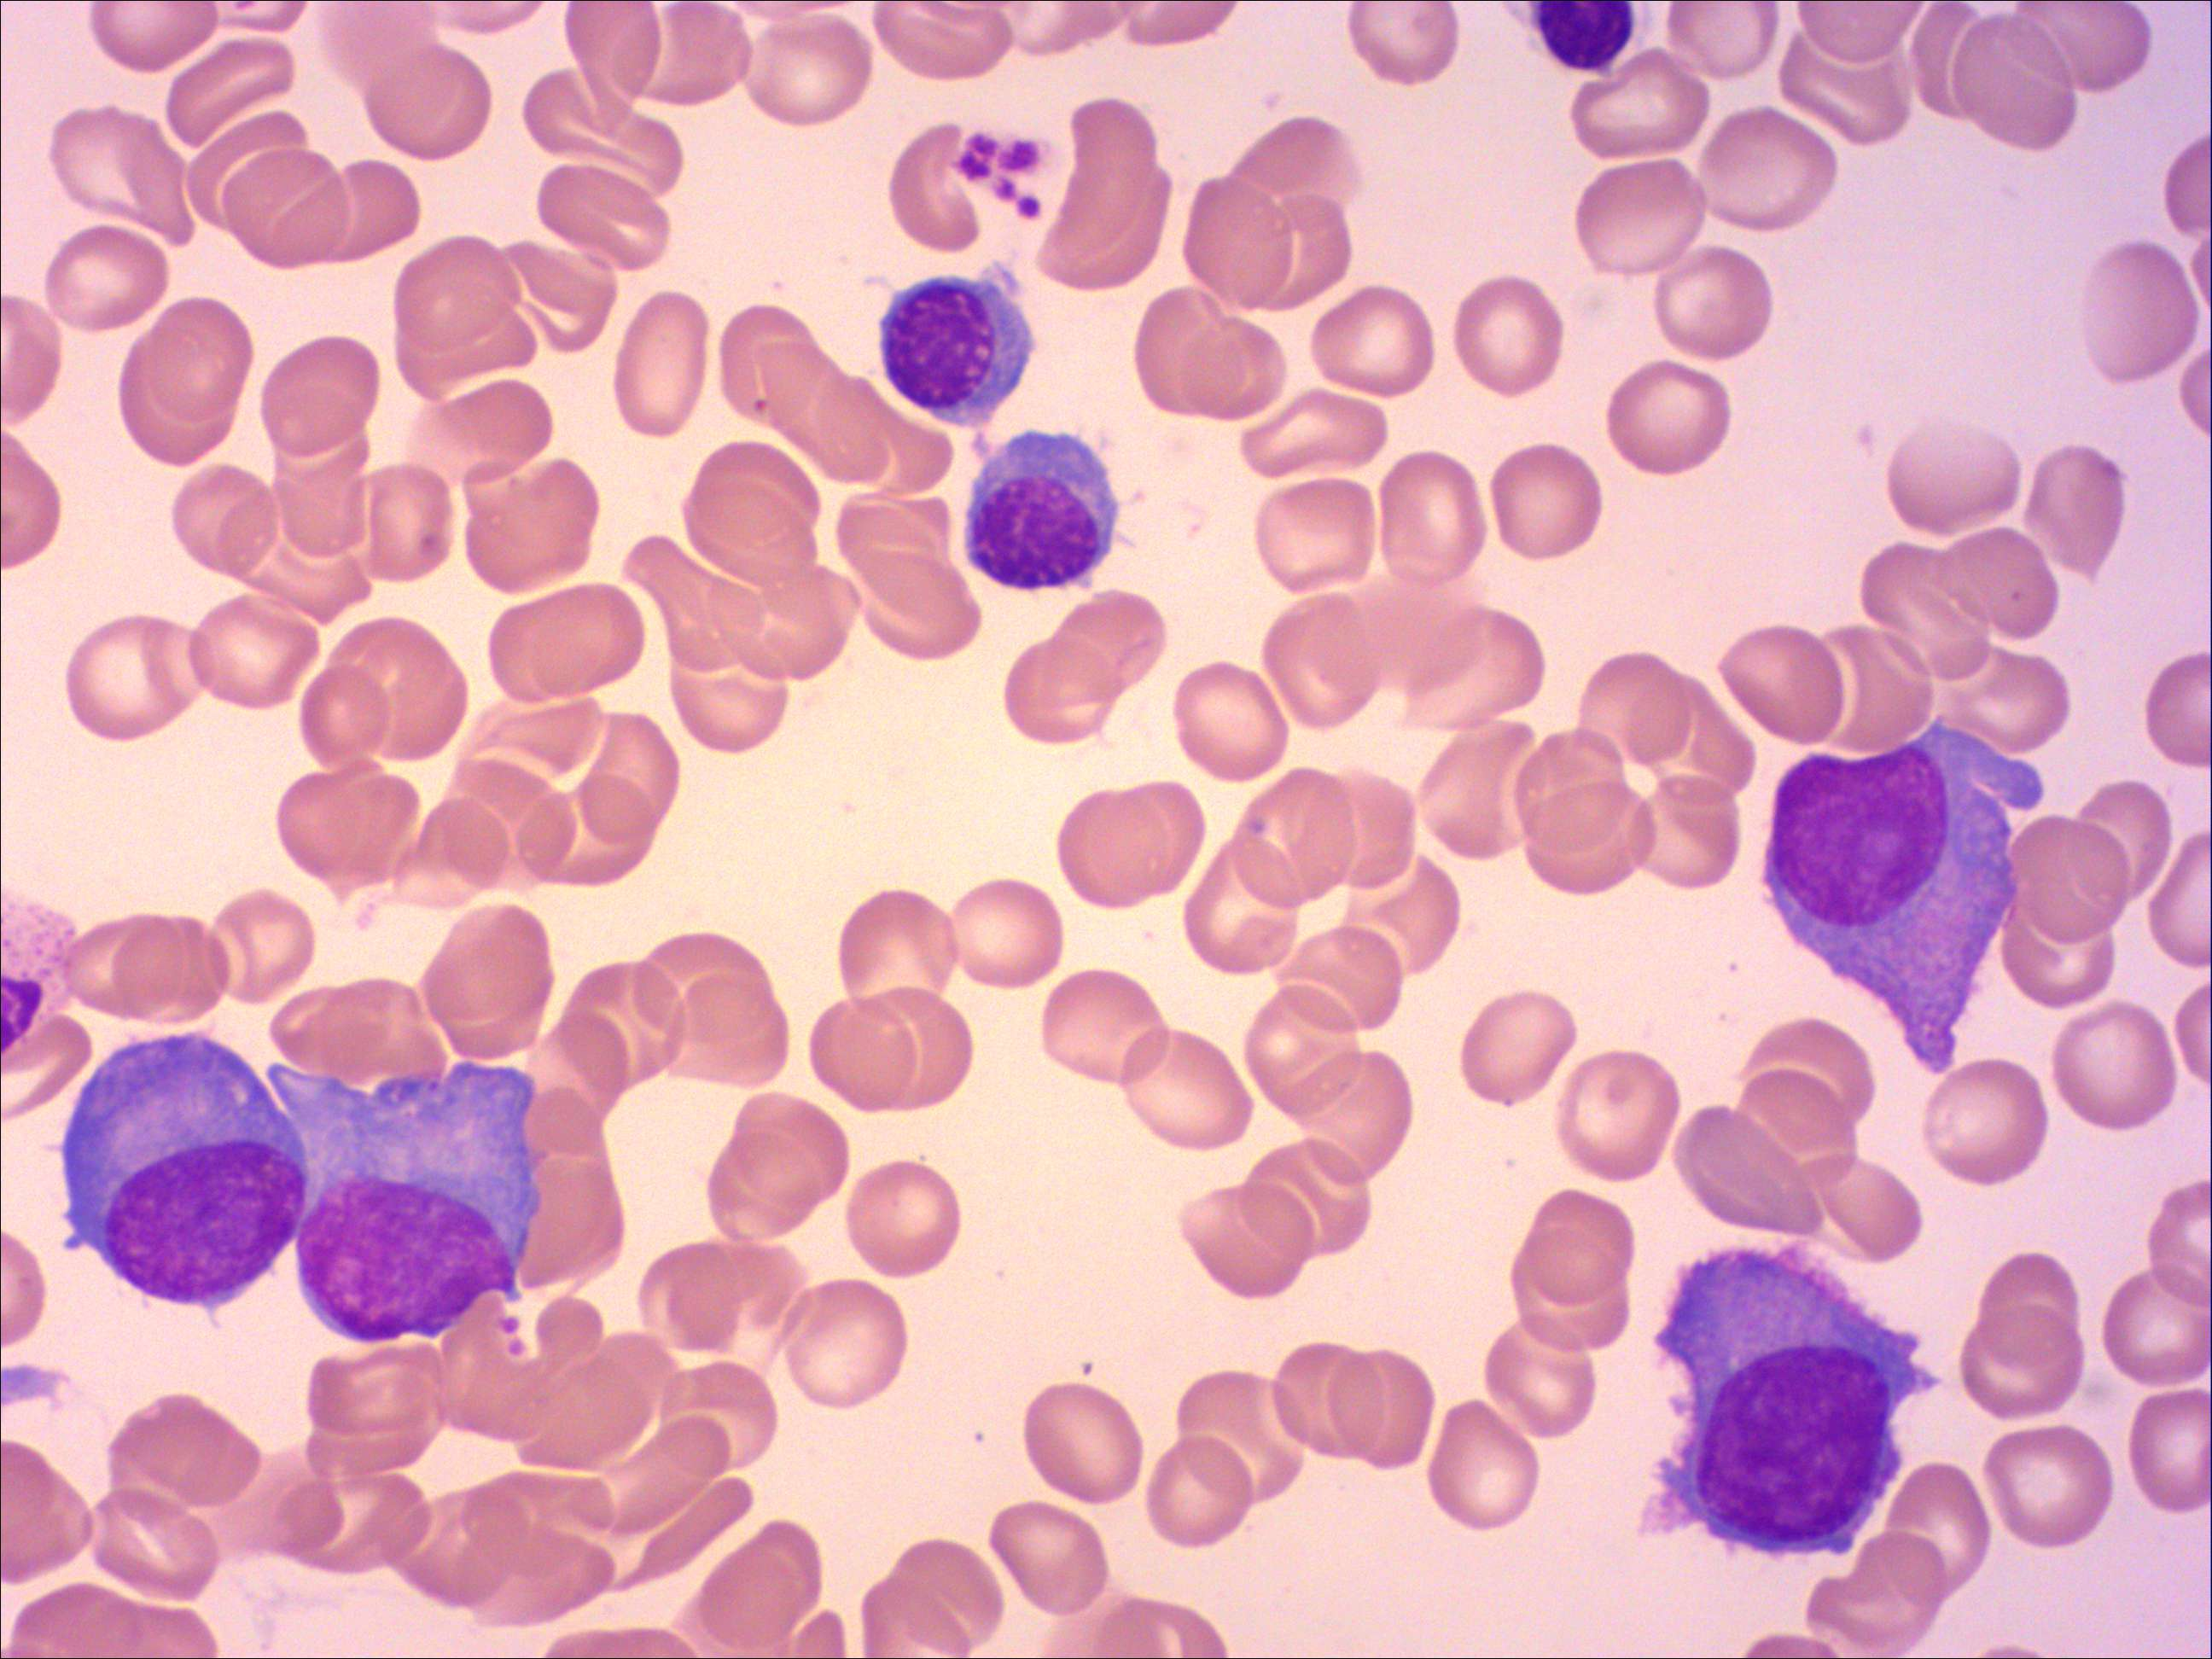23: (873, 254, 1040, 439), (956, 422, 1123, 596)
51: (1754, 711, 2050, 1080), (260, 1056, 549, 1347), (1649, 1243, 1946, 1511), (56, 1028, 314, 1317)
x: (0, 889, 84, 1070), (1500, 0, 1648, 84)
